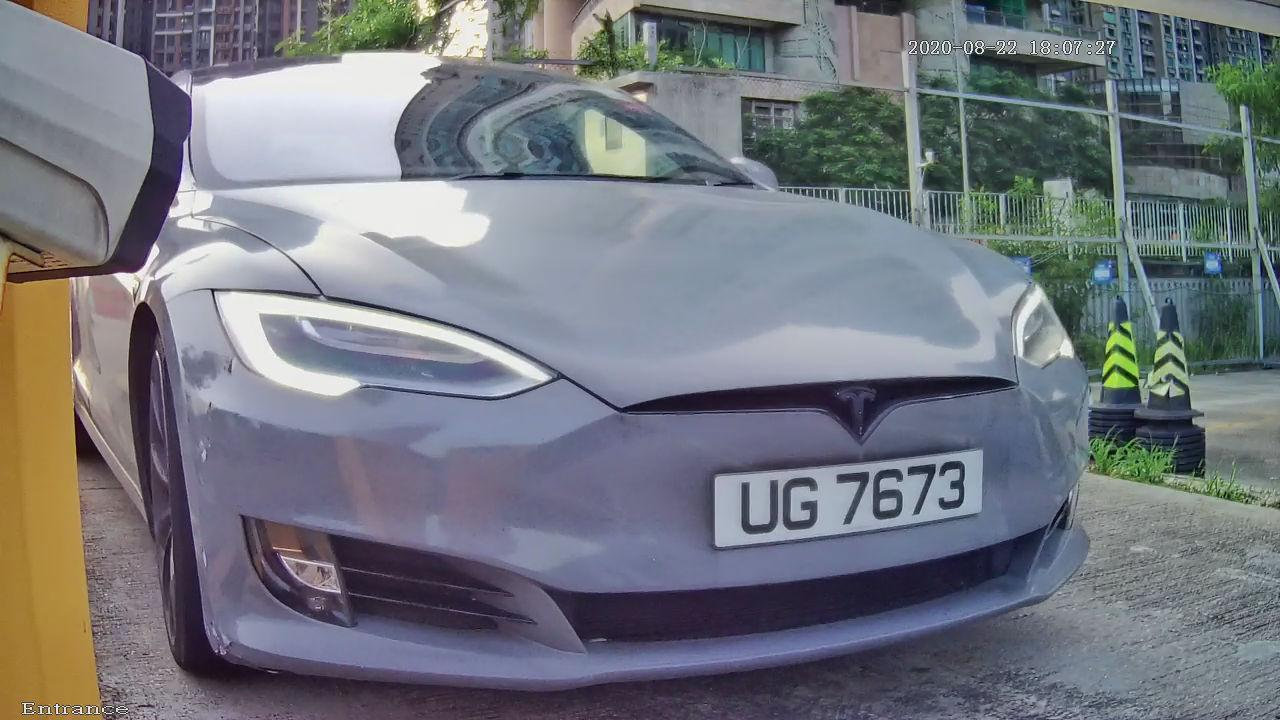License Plate: (658, 403, 1035, 588)
